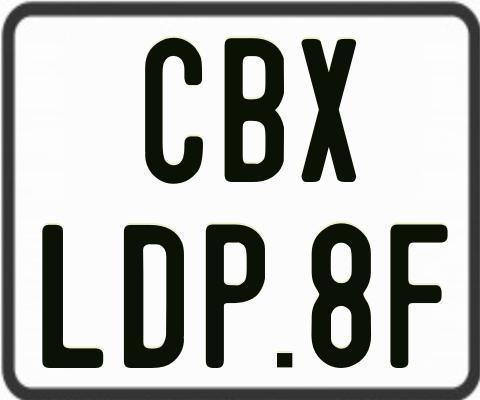8: (311, 220, 372, 368)
B: (223, 38, 284, 182)
C: (142, 35, 201, 185)
D: (123, 222, 186, 365)
F: (390, 222, 448, 372)
L: (39, 222, 100, 365)
P: (204, 224, 267, 370)
X: (300, 37, 357, 180)
